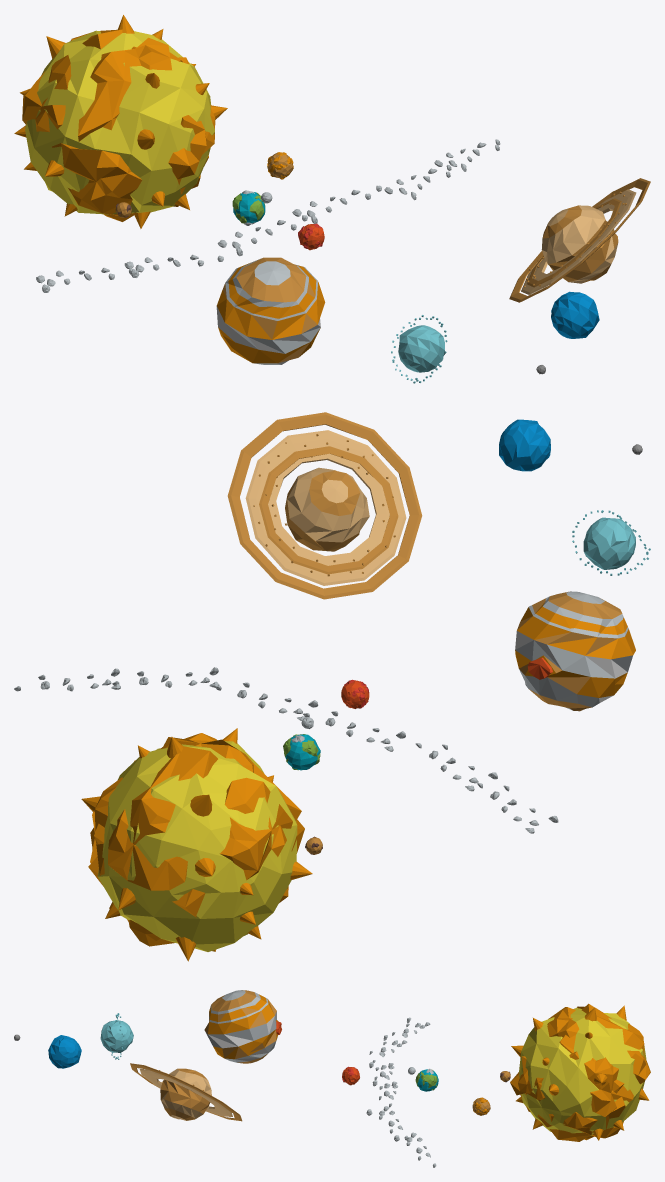
3 views of the same model, one above another, from view 1: azimuth 30°, elevation 25°; view 2: azimuth 150°, elevation 25°; view 3: azimuth 270°, elevation 25° (orthographic). The views are drawn at different scales.
Visible parts, largest first — view 1: node_MeshObject308930048-PolyPaper15, node_MeshObject-2024788544-PolyPaper13, node_MeshObject175458112-PolyPaper19, node_MeshObject827650112-PolyPaper15, node_MeshObject1346370176-PolyPaper15; view 2: node_MeshObject-2024788544-PolyPaper13, node_MeshObject308930048-PolyPaper15, node_MeshObject175458112-PolyPaper19, node_MeshObject827650112-PolyPaper15; view 3: node_MeshObject308930048-PolyPaper15, node_MeshObject-2024788544-PolyPaper13, node_MeshObject175458112-PolyPaper19, node_MeshObject827650112-PolyPaper15, node_MeshObject1346370176-PolyPaper15.
Part boxes in pixels (x1,y1,x2,y2): node_MeshObject308930048-PolyPaper15: (25,30,636,338); node_MeshObject-2024788544-PolyPaper13: (14,15,650,364); node_MeshObject175458112-PolyPaper19: (115,191,631,383); node_MeshObject827650112-PolyPaper15: (36,165,451,283); node_MeshObject1346370176-PolyPaper15: (42,254,203,292); node_MeshObject-2024788544-PolyPaper13: (81,412,635,961); node_MeshObject308930048-PolyPaper15: (14,419,550,951); node_MeshObject175458112-PolyPaper19: (253,434,650,854); node_MeshObject827650112-PolyPaper15: (112,671,534,833); node_MeshObject308930048-PolyPaper15: (48,1007,646,1167); node_MeshObject-2024788544-PolyPaper13: (130,990,650,1140); node_MeshObject175458112-PolyPaper19: (14,1013,510,1106); node_MeshObject827650112-PolyPaper15: (369,1022,430,1139); node_MeshObject1346370176-PolyPaper15: (369,1017,424,1057).
Bounding box in the file's own units: 5.76 × 2.33 × 9.72.
